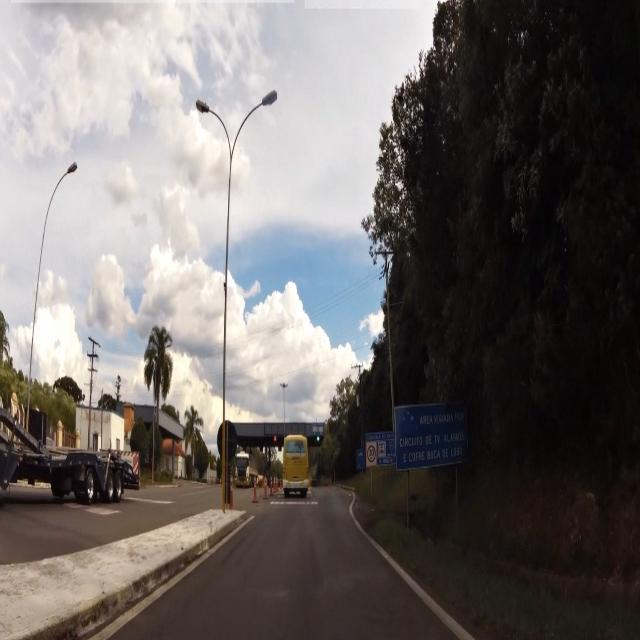LOC-6: (394, 402, 477, 468)
